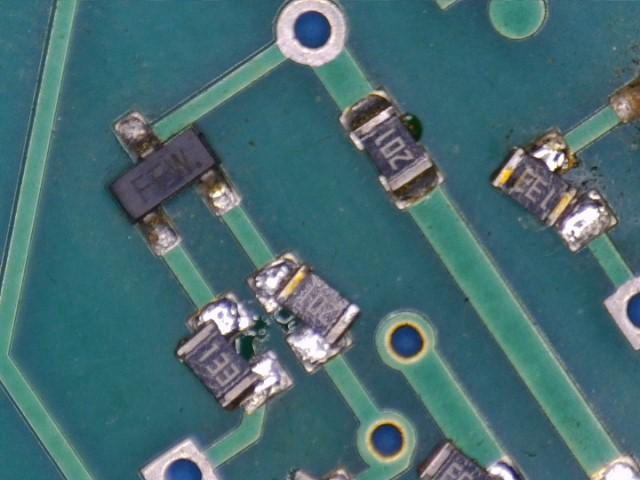Incorrect_installation: (490, 127, 620, 255), (175, 290, 296, 418), (247, 250, 362, 373), (418, 441, 526, 480)
